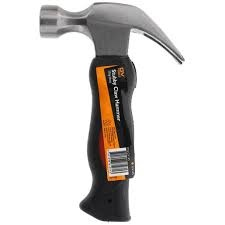hammer: (38, 1, 185, 223)
